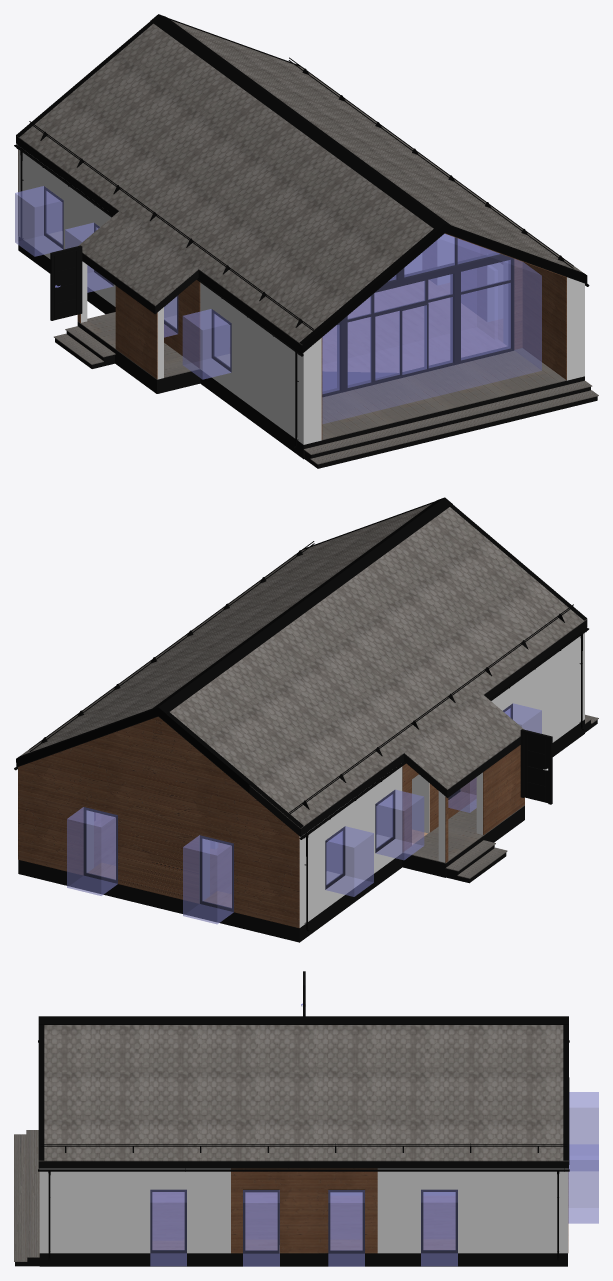
File: modern_house_9277d3ad.glb
3 views of the same model, one above another, from view 1: azimuth 30°, elevation 25°; view 2: azimuth 150°, elevation 25°; view 3: azimuth 270°, elevation 25° (orthographic). The views are drawn at different scales.
Parts seen in each view (by area): view 1: modern_house_9277d3ad; view 2: modern_house_9277d3ad; view 3: modern_house_9277d3ad.
Part boxes in pixels (x1,y1,x2,y2): modern_house_9277d3ad: (14,14,598,468); modern_house_9277d3ad: (14,497,598,942); modern_house_9277d3ad: (14,971,598,1266).
Size of the model in its own units: 13.76 by 6.3 by 17.9.
10 materials, 5 textured.
